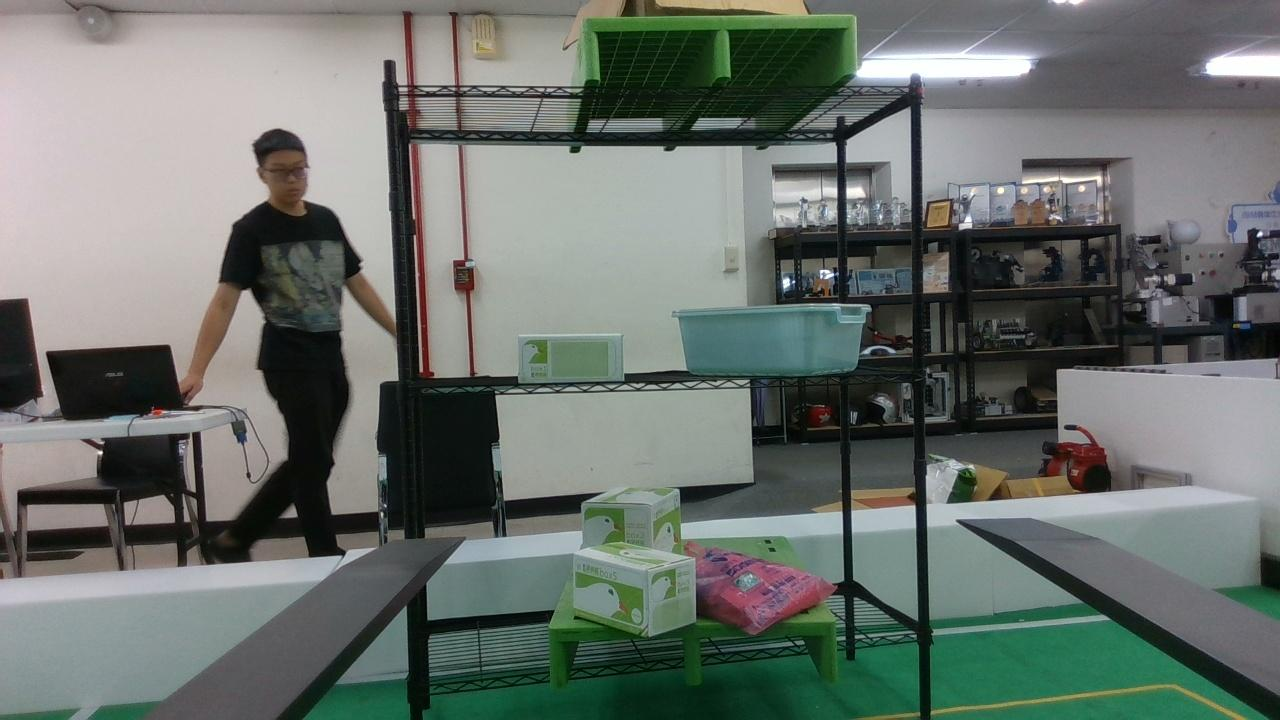Pallet: (548, 620, 838, 687), (581, 16, 859, 81)
